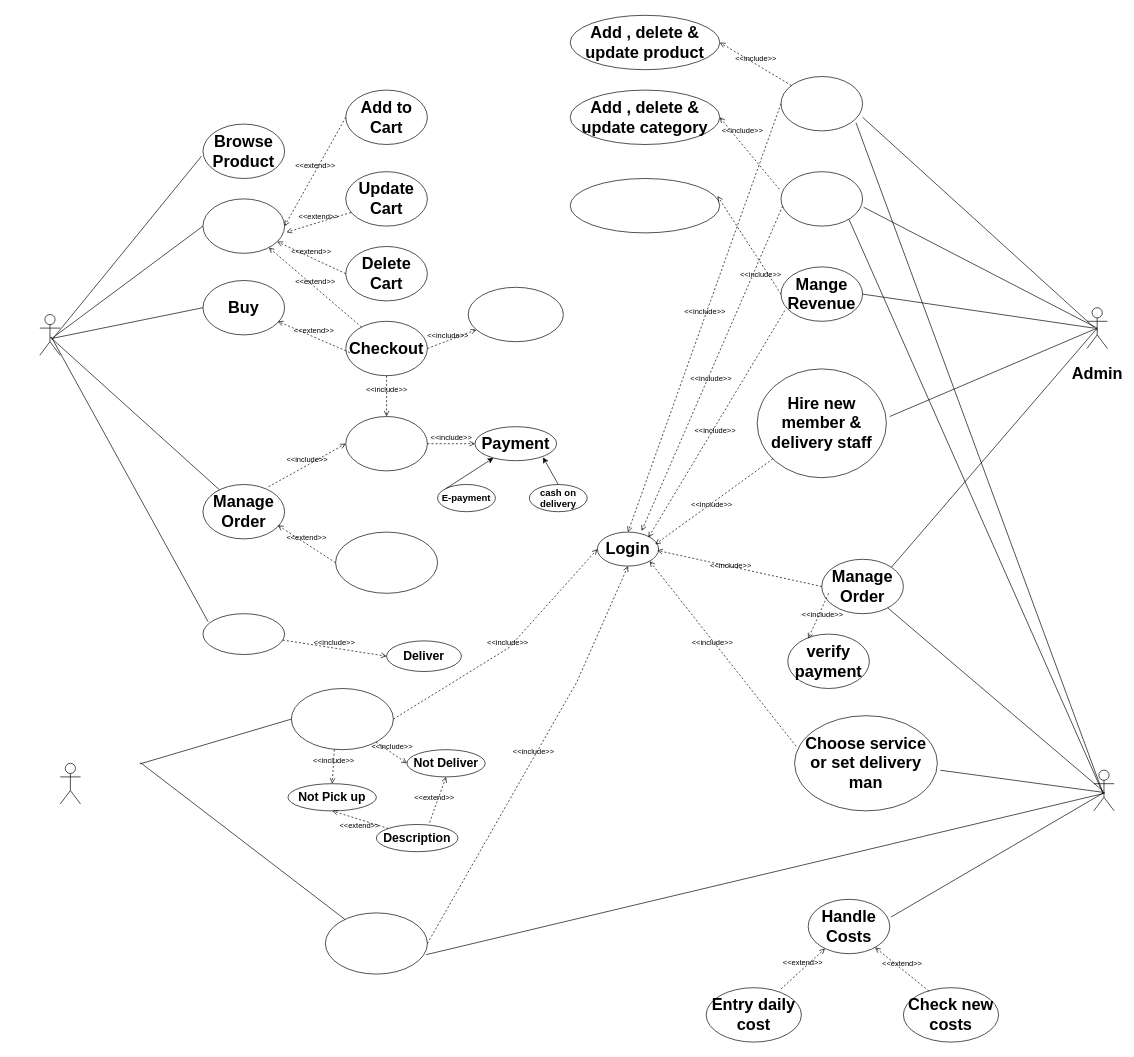
Image size: 1134x1057. Some labels were removed from this diagram. Here are the shapes that lost their labels. From the top down, the box of each, then its label:
(780, 76, 863, 131): Manage Product
(570, 178, 720, 233): Check profit & loss
(780, 171, 863, 226): Manage Category
(202, 198, 285, 253): Manage Cart
(39, 314, 60, 355): Customer
(468, 287, 563, 342): Enter req. Info.
(345, 416, 427, 471): Confirm Order
(335, 531, 438, 593): Check order state
(202, 613, 285, 654): Pick Up
(291, 688, 393, 750): Select Action
(60, 763, 81, 804): Delivery Man
(1093, 769, 1114, 811): Staff
(325, 912, 427, 974): Validate Customer
